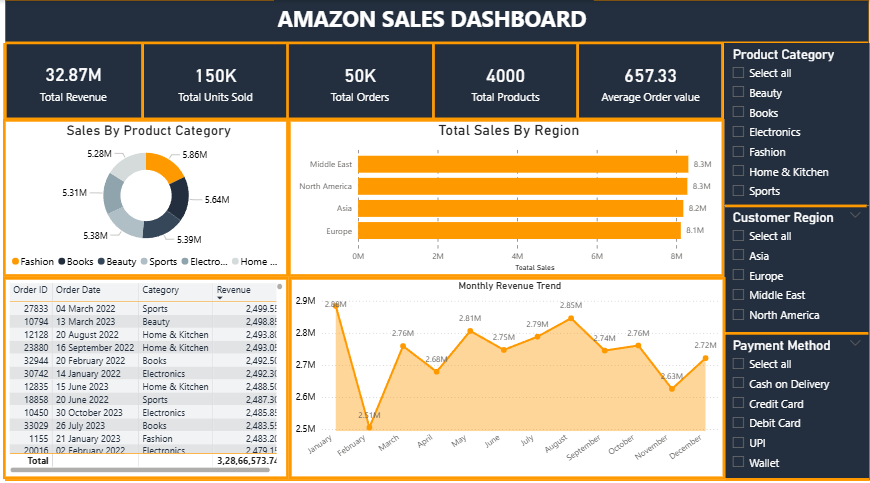

Layout of this report page (visuals, bound fields, positions):
{"tool":"powerbi","page":{"name":"Overview","canvas":[1280,720],"ordinal":0},"visuals":[{"type":"shape","box":[10.3,0,1269.7,63.2],"z":0},{"type":"card","fields":{"Values":["Measure_Table.AVG Order value"]},"box":[852.2,63.2,213.1,113.1],"z":1000},{"type":"card","fields":{"Values":["Measure_Table.total products"]},"box":[639.2,63.2,213.1,113.1],"z":2000},{"type":"card","fields":{"Values":["Measure_Table.total_orders"]},"box":[424.7,63.2,214.5,113.1],"z":3000},{"type":"card","fields":{"Values":["Measure_Table.totalproductssold"]},"box":[213.1,63.2,213.1,113.1],"z":4000},{"type":"card","fields":{"Values":["Measure_Table.total_sales"]},"box":[6.8,63.2,206.8,112.8],"z":5000},{"type":"donutChart","title":"Sales By Product Category","fields":{"Category":["products.product_category"],"Y":["Measure_Table.total_sales"]},"box":[6.8,174.3,420.4,232.4],"z":6000},{"type":"shape","box":[421.7,63.2,7.3,113.1],"z":7000},{"type":"shape","box":[208.7,61.7,7.3,113.1],"z":8000},{"type":"shape","box":[6.8,63.2,6.8,112.8],"z":9000},{"type":"shape","box":[1060.9,63.2,7.3,113.1],"z":10000},{"type":"shape","box":[847.8,63.2,7.3,113.1],"z":11000},{"type":"shape","box":[636.2,63.2,7.3,113.1],"z":12000},{"type":"shape","box":[10.3,160.6,1057.8,29.1],"z":13000},{"type":"textbox","box":[405,0,470,61.5],"z":14000},{"type":"shape","box":[10.3,47.9,1268,29.1],"z":15000},{"type":"slicer","fields":{"Values":["products.product_category"]},"box":[1066.4,63.2,213.6,239.3],"z":16000},{"type":"slicer","fields":{"Values":["sales.customer_region"]},"box":[1066.4,302.5,213.6,188],"z":17000},{"type":"slicer","fields":{"Values":["sales.payment_method"]},"box":[1066.4,490.5,213.6,215.3],"z":18000},{"type":"shape","box":[1064.7,459.7,213.6,59.8],"z":20000},{"type":"shape","box":[1068.1,271.7,208.5,61.5],"z":21000},{"type":"shape","box":[10.3,688.7,1269.7,30.8],"z":22000},{"type":"shape","box":[10.3,688.7,1269.7,30.8],"z":24000},{"type":"clusteredBarChart","title":"Total Sales By Region","fields":{"Y":["Measure_Table.total_sales"],"Category":["sales.customer_region"]},"box":[425.5,174.3,641,232.4],"z":25000},{"type":"lineChart","title":"Monthly Revenue Trend","fields":{"Category":["sales.order_date.Variation.Date Hierarchy.Month","sales.order_date.Variation.Date Hierarchy.Day"],"Y":["Measure_Table.total_sales"]},"box":[427.2,406.7,640.9,297.4],"z":26000},{"type":"tableEx","fields":{"Values":["sales.order_id","sales.order_date","sales.product_category","Sum(sales.total_revenue)"]},"box":[6.8,406.7,420.4,297.4],"z":27000}]}

Visuals, with their boxes in screenshot pixels (x1, y1, x2, y2), scaled from the page's 1280x720 canvas onto the 870x483 screenshot:
shape: BBox(7, 0, 869, 42)
card - Measure_Table.AVG Order value: BBox(579, 42, 724, 118)
card - Measure_Table.total products: BBox(434, 42, 579, 118)
card - Measure_Table.total_orders: BBox(289, 42, 434, 118)
card - Measure_Table.totalproductssold: BBox(145, 42, 290, 118)
card - Measure_Table.total_sales: BBox(5, 42, 145, 118)
"Sales By Product Category" donutChart: BBox(5, 117, 290, 273)
shape: BBox(287, 42, 292, 118)
shape: BBox(142, 41, 147, 117)
shape: BBox(5, 42, 9, 118)
shape: BBox(721, 42, 726, 118)
shape: BBox(576, 42, 581, 118)
shape: BBox(432, 42, 437, 118)
shape: BBox(7, 108, 726, 127)
textbox: BBox(275, 0, 595, 41)
shape: BBox(7, 32, 869, 52)
slicer - products.product_category: BBox(725, 42, 869, 203)
slicer - sales.customer_region: BBox(725, 203, 869, 329)
slicer - sales.payment_method: BBox(725, 329, 869, 473)
shape: BBox(724, 308, 869, 348)
shape: BBox(726, 182, 868, 224)
shape: BBox(7, 462, 869, 482)
shape: BBox(7, 462, 869, 482)
"Total Sales By Region" clusteredBarChart: BBox(289, 117, 725, 273)
"Monthly Revenue Trend" lineChart: BBox(290, 273, 726, 472)
tableEx - sales.order_id x sales.order_date: BBox(5, 273, 290, 472)
